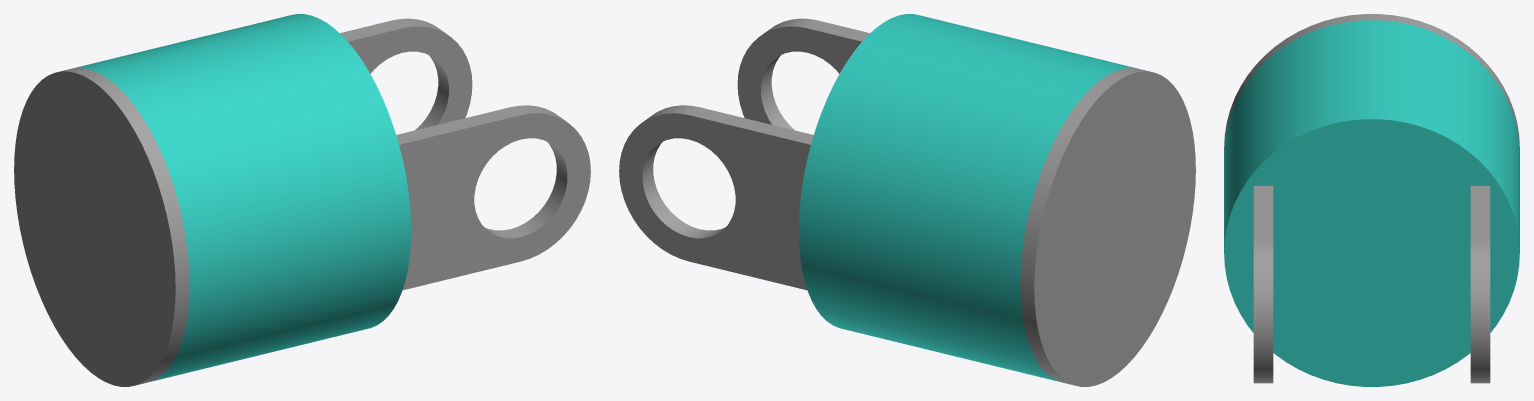
Rendered from arm_upper_sinister.obj.
3 views of the same model, side by side, from view 1: azimuth 30°, elevation 25°; view 2: azimuth 150°, elevation 25°; view 3: azimuth 270°, elevation 25° (orthographic). The views are drawn at different scales.
Parts seen in each view (by area): view 1: Body4, Body1, Body5, Body6; view 2: Body4, Body1, Body6, Body5; view 3: Body4, Body5, Body6, Body1.
Part boxes in pixels (x1=…): Body4: x1=72, y1=14, x2=411, y2=381; Body1: x1=14, y1=68, x2=189, y2=386; Body5: x1=396, y1=105, x2=590, y2=290; Body6: x1=340, y1=18, x2=472, y2=130; Body4: x1=798, y1=14, x2=1137, y2=381; Body1: x1=1020, y1=68, x2=1195, y2=386; Body6: x1=619, y1=105, x2=813, y2=290; Body5: x1=737, y1=18, x2=869, y2=130; Body4: x1=1224, y1=20, x2=1519, y2=386; Body5: x1=1253, y1=186, x2=1273, y2=383; Body6: x1=1470, y1=186, x2=1490, y2=383; Body1: x1=1224, y1=14, x2=1519, y2=152.
Size of the model in its own units: 0.185 by 0.1199 by 0.12.
